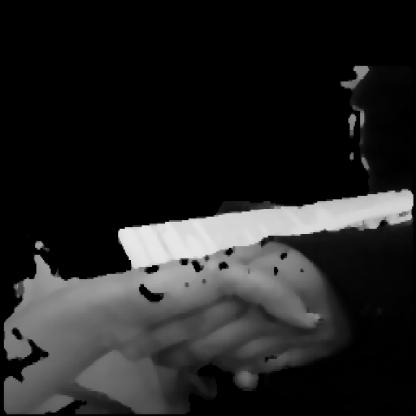handshake: (69, 196, 353, 405)
